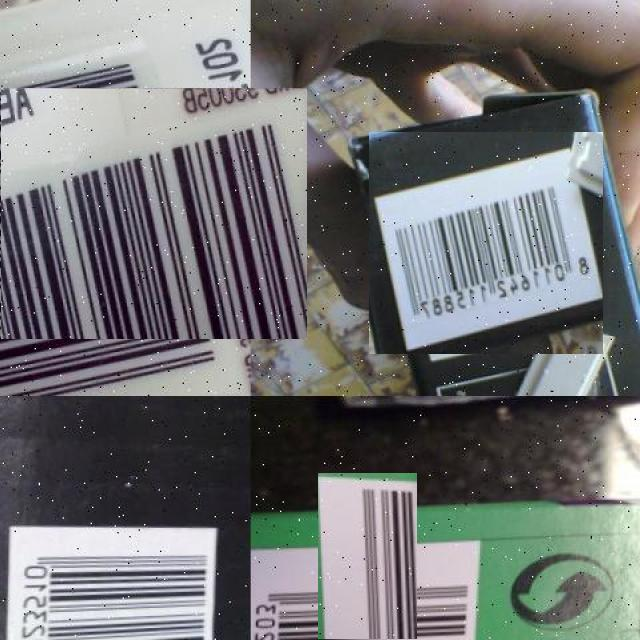Barcode: (0, 60, 280, 367), (372, 129, 600, 358), (5, 513, 227, 640), (285, 506, 451, 640)
